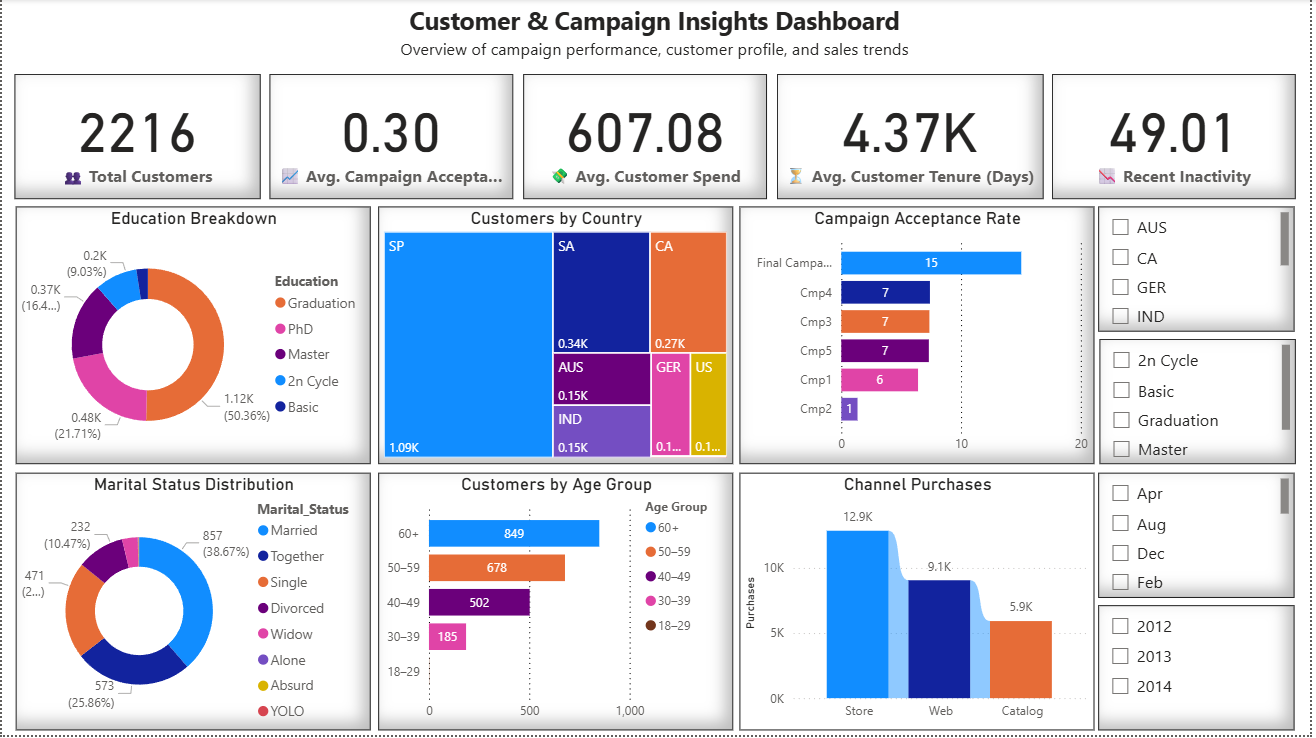

The dashboard page shown, as its layout file describes it:
{"tool":"powerbi","page":{"name":"Page 1","canvas":[1280,720],"ordinal":0},"visuals":[{"type":"textbox","box":[12.2,0,1252.2,64.8],"z":0},{"type":"card","fields":{"Values":["CountNonNull(marketing_data.Dt_Customer)"]},"box":[12.2,73.4,240.9,122.3],"z":1000},{"type":"card","fields":{"Values":["Avg(marketing_data.Total_Campaigns_Accepted)"]},"box":[261.7,73.4,238.5,122.3],"z":2000},{"type":"card","fields":{"Values":["Avg(marketing_data.Total_Spend)"]},"box":[509.9,73.4,238.5,122.3],"z":3000},{"type":"card","fields":{"Values":["Avg(marketing_data.Customer_Tenure)"]},"box":[758.2,73.4,260.5,122.3],"z":4000},{"type":"card","fields":{"Values":["Avg(marketing_data.Recency)"]},"box":[1027.2,73.4,238.5,122.3],"z":5000},{"type":"donutChart","title":"Education Breakdown","fields":{"Category":["marketing_data.Education"],"Y":["CountNonNull(marketing_data.Dt_Customer)"]},"box":[13.5,203,347.3,251.9],"z":6000},{"type":"donutChart","title":"Marital Status Distribution","fields":{"Y":["CountNonNull(marketing_data.Dt_Customer)"],"Category":["marketing_data.Marital_Status"]},"box":[13.5,463.5,347.3,251.9],"z":7000},{"type":"treemap","title":"Customers by Country","fields":{"Values":["CountNonNull(marketing_data.Dt_Customer)"],"Group":["marketing_data.Country"]},"box":[368.1,203,347.3,251.9],"z":8000},{"type":"barChart","title":"Customers by Age Group","fields":{"Y":["CountNonNull(marketing_data.Dt_Customer)"],"Category":["marketing_data.Age Group"],"Series":["marketing_data.Age Group"]},"box":[368.1,463.5,347.3,251.9],"z":9000},{"type":"barChart","title":"Campaign Acceptance Rate","fields":{"Category":["Campaigns.Campaign"],"Y":["Campaigns.Campaign Acceptance Rate (%)"],"Series":["Campaigns.Campaign"]},"box":[721.5,203,347.3,251.9],"z":10000},{"type":"columnChart","title":"Channel Purchases","fields":{"Category":["ChannelPurchases.Channel"],"Y":["Sum(ChannelPurchases.Purchases)"]},"box":[721.5,463.5,347.3,251.9],"z":11000},{"type":"slicer","fields":{"Values":["marketing_data.Country"]},"box":[1072.4,203,192,122.3],"z":11002},{"type":"slicer","fields":{"Values":["DateTable.Year"]},"box":[1072.4,593.1,192,122.3],"z":11003},{"type":"slicer","fields":{"Values":["DateTable.Month"]},"box":[1072.4,463.5,192,122.3],"z":11004},{"type":"slicer","fields":{"Values":["marketing_data.Education"]},"box":[1073.6,332.6,192,122.3],"z":11005}]}

Visuals, with their boxes in screenshot pixels (x1, y1, x2, y2), scaled from the page's 1280x720 canvas onto the 1316x738 screenshot:
textbox: detection(13, 0, 1300, 66)
card - CountNonNull(marketing_data.Dt_Customer): detection(13, 75, 260, 201)
card - Avg(marketing_data.Total_Campaigns_Accepted): detection(269, 75, 514, 201)
card - Avg(marketing_data.Total_Spend): detection(524, 75, 769, 201)
card - Avg(marketing_data.Customer_Tenure): detection(780, 75, 1047, 201)
card - Avg(marketing_data.Recency): detection(1056, 75, 1301, 201)
"Education Breakdown" donutChart: detection(14, 208, 371, 466)
"Marital Status Distribution" donutChart: detection(14, 475, 371, 733)
"Customers by Country" treemap: detection(378, 208, 736, 466)
"Customers by Age Group" barChart: detection(378, 475, 736, 733)
"Campaign Acceptance Rate" barChart: detection(742, 208, 1099, 466)
"Channel Purchases" columnChart: detection(742, 475, 1099, 733)
slicer - marketing_data.Country: detection(1103, 208, 1300, 333)
slicer - DateTable.Year: detection(1103, 608, 1300, 733)
slicer - DateTable.Month: detection(1103, 475, 1300, 600)
slicer - marketing_data.Education: detection(1104, 341, 1301, 466)
